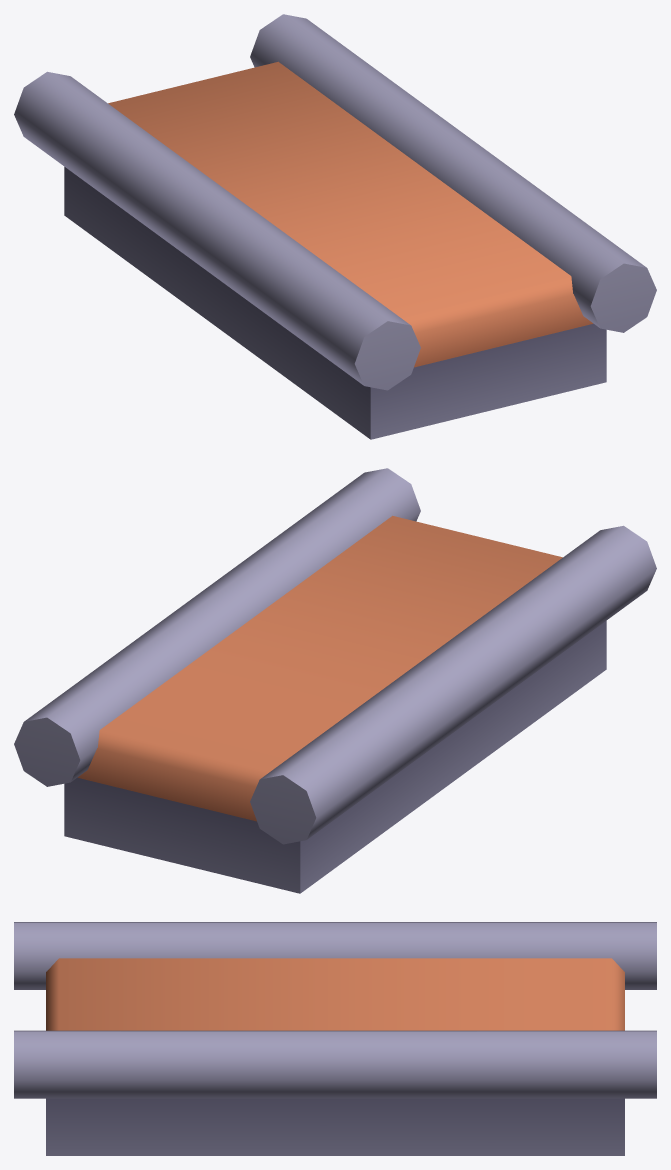
The model's file is mini-skate--obstacle-box-grind.glb.
3 views of the same model, one above another, from view 1: azimuth 30°, elevation 25°; view 2: azimuth 150°, elevation 25°; view 3: azimuth 270°, elevation 25° (orthographic). The views are drawn at different scales.
Visible parts, largest first — view 1: obstacle-box-grind; view 2: obstacle-box-grind; view 3: obstacle-box-grind.
Part boxes in pixels (x1=…): obstacle-box-grind: x1=14, y1=14, x2=656, y2=439; obstacle-box-grind: x1=14, y1=468, x2=656, y2=893; obstacle-box-grind: x1=14, y1=922, x2=656, y2=1155.
Size of the model in its own units: 0.5125 by 0.2125 by 1.
Materials: 1 (1 with a texture image).
